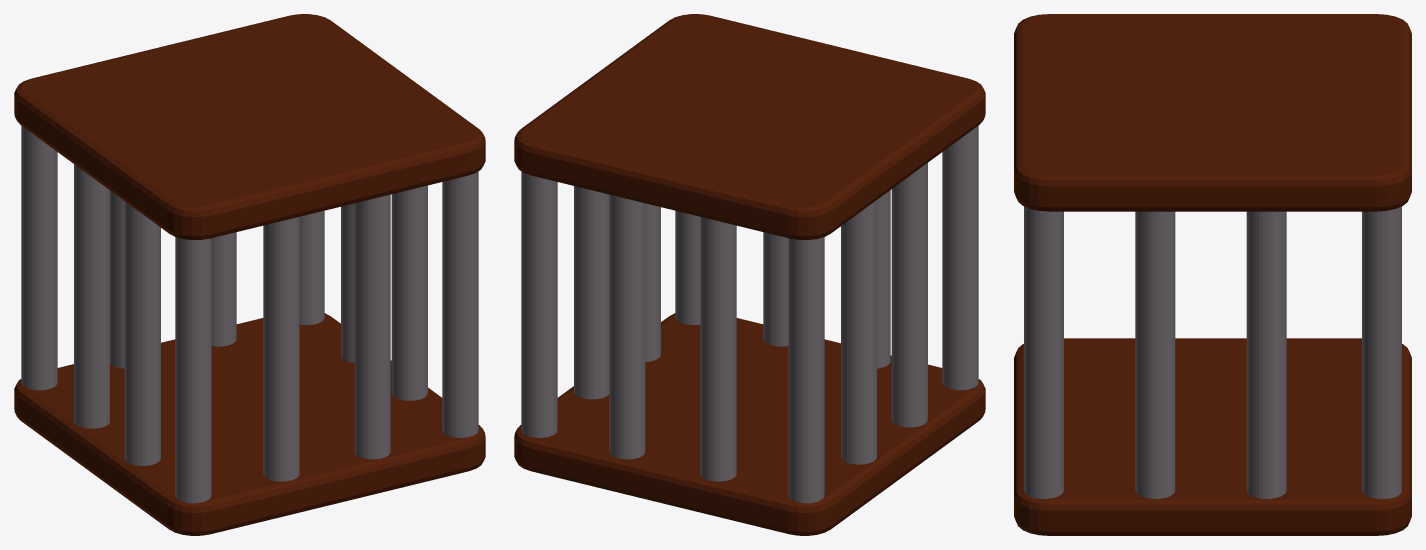
Rendered from CageCube 2.fbx.
3 views of the same model, side by side, from view 1: azimuth 30°, elevation 25°; view 2: azimuth 150°, elevation 25°; view 3: azimuth 270°, elevation 25° (orthographic). The views are drawn at different scales.
Parts seen in each view (by area): view 1: Cube.003; view 2: Cube.003; view 3: Cube.003.
Boxes of the visible parts, bbox=[...] form: Cube.003: bbox=[14, 14, 485, 535]; Cube.003: bbox=[514, 14, 985, 535]; Cube.003: bbox=[1014, 14, 1411, 535].
Bounding box in the file's own units: 200 × 200 × 200.
